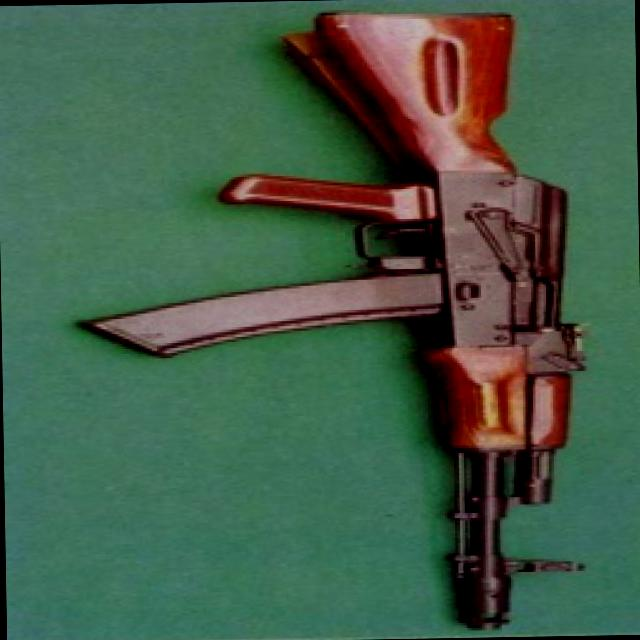long weapon: (80, 7, 586, 639)
